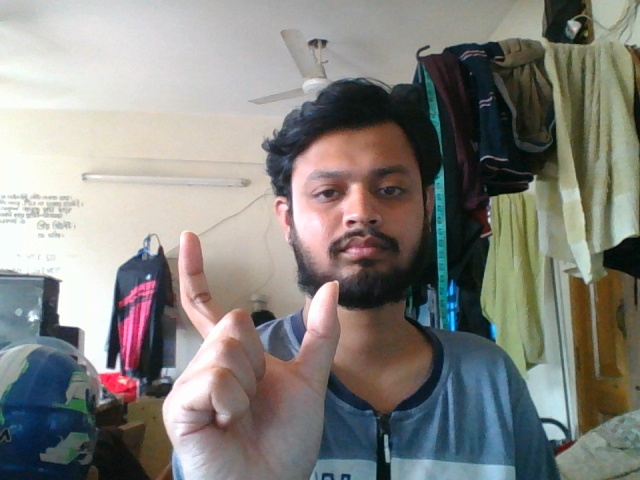chandrobindu: (153, 224, 349, 480)
